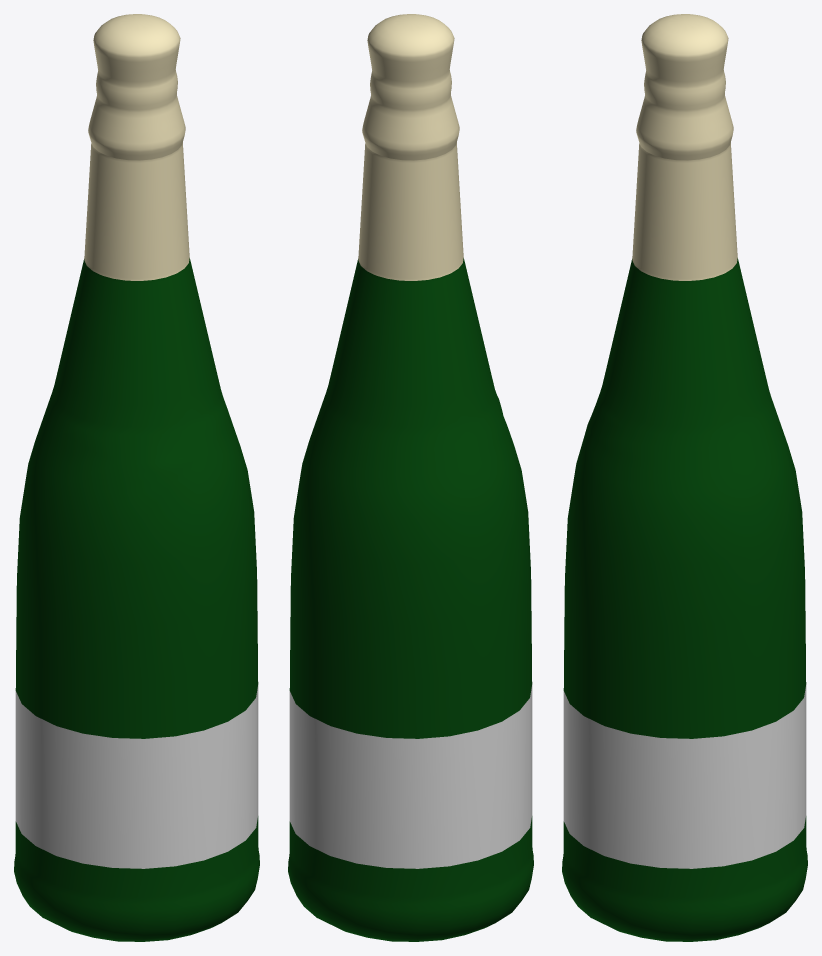
File: Bottle1.fbx
3 renders of one model, left to right at view 1: azimuth 30°, elevation 25°; view 2: azimuth 150°, elevation 25°; view 3: azimuth 270°, elevation 25°, orthographic.
Visible parts, largest first — view 1: Bottle1; view 2: Bottle1; view 3: Bottle1.
Boxes of the visible parts, bbox=[...] form: Bottle1: bbox=[14, 14, 259, 941]; Bottle1: bbox=[288, 14, 533, 941]; Bottle1: bbox=[562, 14, 807, 941].
Size of the model in its own units: 9.93 by 39.52 by 9.93.
